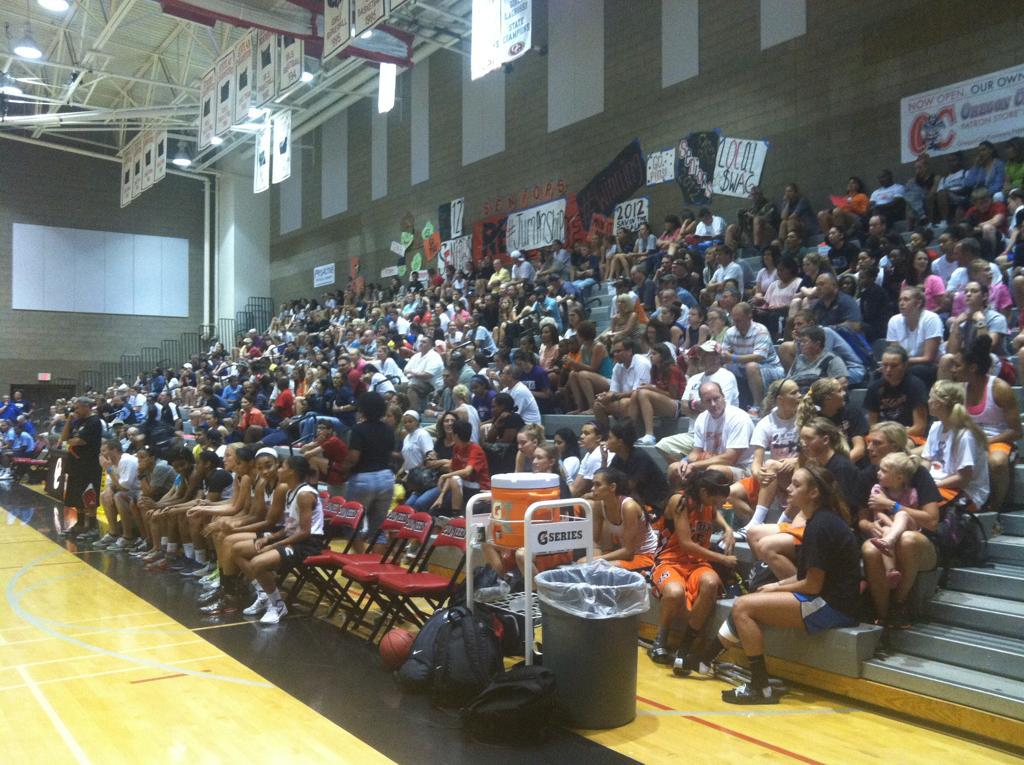face: (868, 432, 893, 466), (787, 472, 811, 504), (780, 386, 802, 415), (801, 429, 823, 458), (702, 390, 725, 417), (952, 354, 971, 382), (963, 282, 983, 308), (883, 355, 903, 381), (828, 385, 848, 411), (899, 293, 920, 317), (255, 459, 277, 481), (701, 487, 725, 507), (592, 475, 611, 500), (976, 264, 994, 289), (533, 448, 550, 473), (815, 274, 831, 299), (877, 465, 895, 487), (938, 236, 956, 257), (278, 462, 295, 484), (580, 425, 596, 448), (799, 337, 816, 358), (608, 431, 625, 452), (733, 311, 748, 333), (517, 435, 533, 455), (927, 390, 938, 419), (171, 461, 190, 477), (698, 352, 713, 371), (100, 445, 113, 466), (793, 318, 809, 335), (554, 435, 568, 454), (1007, 196, 1021, 215), (955, 247, 969, 266), (196, 457, 210, 476), (490, 400, 504, 419), (224, 450, 236, 472), (138, 450, 151, 470), (403, 416, 418, 433), (914, 254, 928, 272), (801, 260, 814, 279), (1006, 144, 1021, 160), (235, 458, 249, 475), (859, 252, 872, 270), (615, 347, 627, 366), (708, 314, 720, 333), (880, 238, 894, 254), (909, 235, 923, 251), (500, 368, 512, 386), (915, 163, 929, 178), (977, 198, 990, 214), (869, 219, 882, 235), (444, 416, 456, 433), (472, 385, 486, 399), (338, 360, 351, 375), (842, 279, 855, 294), (650, 351, 662, 367), (778, 267, 790, 283), (889, 251, 901, 267), (386, 412, 397, 429), (947, 157, 960, 171), (418, 338, 432, 351), (443, 371, 456, 385), (979, 147, 991, 162), (515, 361, 530, 373), (541, 329, 553, 344), (690, 309, 701, 325), (786, 234, 797, 250), (647, 328, 657, 345), (660, 311, 673, 324), (568, 314, 580, 328), (879, 172, 891, 186), (859, 273, 871, 287), (630, 270, 641, 285), (715, 252, 726, 267), (616, 284, 629, 296), (662, 294, 674, 307), (75, 405, 86, 419), (568, 340, 579, 354), (616, 299, 627, 313), (702, 214, 714, 226), (672, 266, 684, 278), (468, 318, 479, 331), (520, 340, 531, 353), (661, 258, 672, 271), (725, 283, 736, 296), (317, 425, 327, 439), (333, 375, 343, 389), (723, 295, 733, 309), (764, 251, 774, 265), (829, 229, 839, 243), (195, 432, 206, 444), (204, 415, 215, 427), (384, 395, 395, 407), (662, 279, 674, 290), (390, 398, 400, 411), (558, 344, 569, 355), (848, 179, 858, 191), (128, 431, 137, 444), (244, 382, 253, 395), (664, 221, 674, 232), (752, 191, 762, 202), (363, 371, 374, 381), (500, 300, 510, 311), (190, 415, 199, 427), (314, 381, 324, 391), (242, 399, 251, 410), (507, 288, 516, 299), (199, 388, 208, 399), (317, 367, 326, 378), (786, 187, 795, 198), (159, 392, 167, 404), (498, 285, 506, 297), (102, 412, 111, 422), (495, 359, 504, 369), (617, 231, 626, 241), (292, 371, 301, 381), (351, 352, 359, 363), (378, 350, 386, 361), (449, 323, 457, 334), (705, 251, 713, 262), (685, 254, 692, 266), (580, 247, 589, 256), (639, 228, 648, 237), (500, 344, 508, 354), (535, 293, 544, 301), (551, 279, 559, 288), (15, 428, 23, 437), (391, 314, 399, 323), (484, 257, 492, 266), (338, 348, 346, 357), (96, 398, 103, 408), (365, 334, 372, 344), (435, 305, 442, 315), (120, 390, 128, 398), (512, 258, 520, 266), (325, 336, 333, 344), (288, 346, 296, 354), (452, 292, 460, 300), (494, 263, 502, 271), (183, 367, 191, 375), (574, 245, 582, 253), (15, 393, 22, 402), (348, 333, 355, 342), (485, 296, 492, 305), (200, 354, 207, 363), (276, 370, 283, 379), (317, 352, 324, 361), (372, 311, 379, 320), (553, 243, 560, 252), (107, 389, 114, 398), (379, 328, 386, 336), (233, 380, 240, 388), (147, 399, 154, 407), (166, 370, 173, 378), (237, 366, 245, 373), (261, 361, 268, 369), (333, 311, 340, 319), (334, 293, 341, 301), (592, 237, 599, 245), (603, 239, 610, 247), (113, 399, 119, 408), (116, 427, 122, 436), (306, 372, 312, 381), (393, 279, 399, 288), (1, 423, 7, 432), (4, 397, 10, 406), (225, 359, 232, 366), (307, 354, 314, 361), (245, 342, 252, 349), (250, 332, 257, 339), (367, 287, 374, 294), (310, 301, 317, 308), (51, 408, 57, 416), (376, 340, 382, 348), (299, 336, 305, 344), (140, 373, 146, 381), (444, 269, 450, 277), (57, 403, 63, 410), (153, 369, 159, 376), (265, 340, 271, 347), (305, 343, 311, 350), (299, 355, 305, 362), (272, 321, 278, 328), (407, 295, 413, 302), (430, 328, 435, 336), (212, 350, 217, 358), (281, 328, 287, 334), (432, 320, 437, 327), (123, 428, 127, 436), (132, 389, 137, 395), (280, 306, 285, 312), (301, 300, 306, 306), (289, 302, 294, 308), (307, 317, 312, 323), (116, 380, 121, 386), (413, 275, 418, 281), (68, 402, 73, 407), (217, 346, 222, 350)
